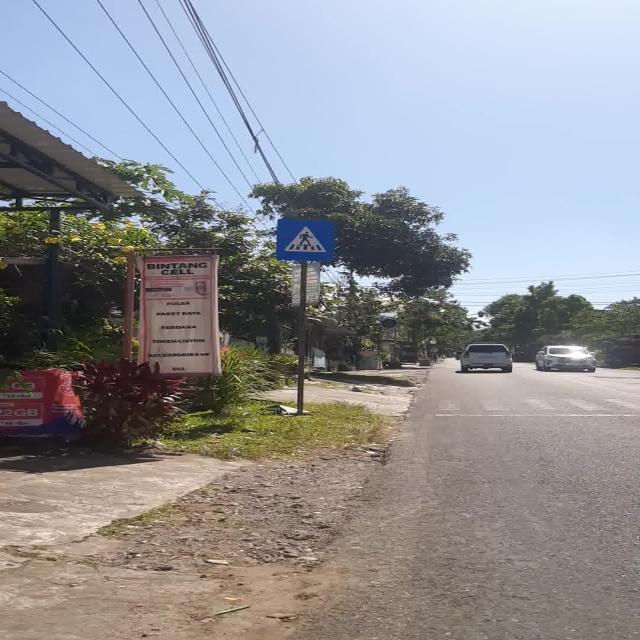Perintah Jalur Penyebrangan: (276, 218, 334, 262)
